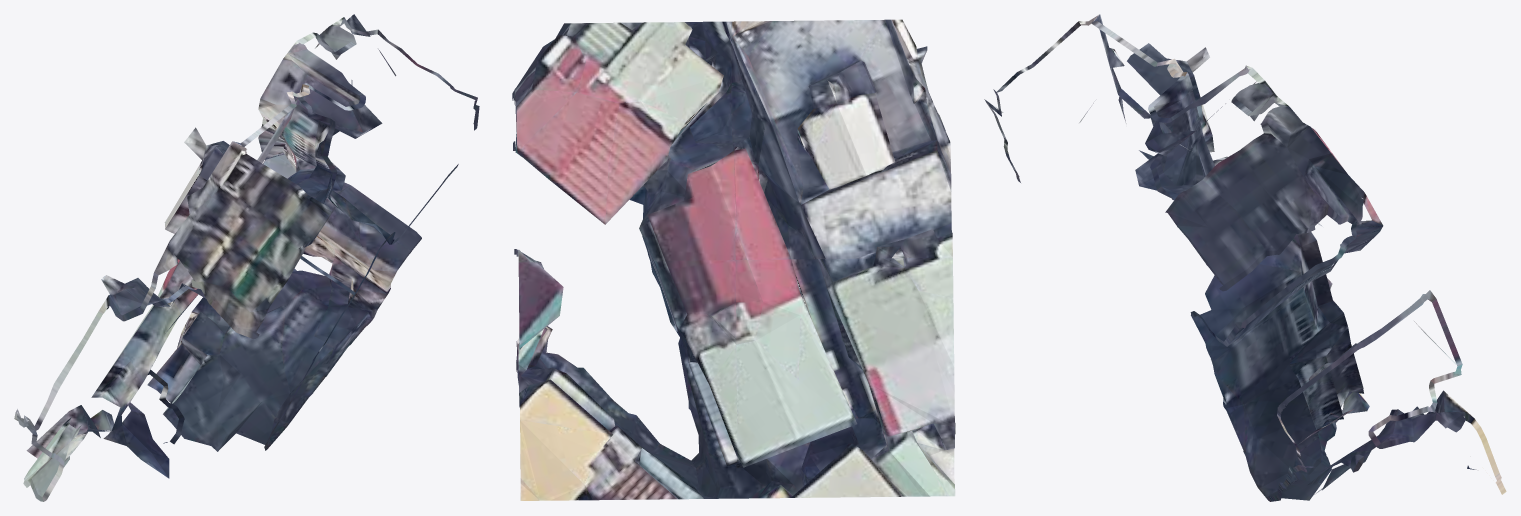
3 views of the same model, side by side, from view 1: azimuth 30°, elevation 25°; view 2: azimuth 150°, elevation 25°; view 3: azimuth 270°, elevation 25° (orthographic). The views are drawn at different scales.
Bounding box in the file's own units: 43.13 × 39.11 × 40.43.
2 materials, 2 textured.
